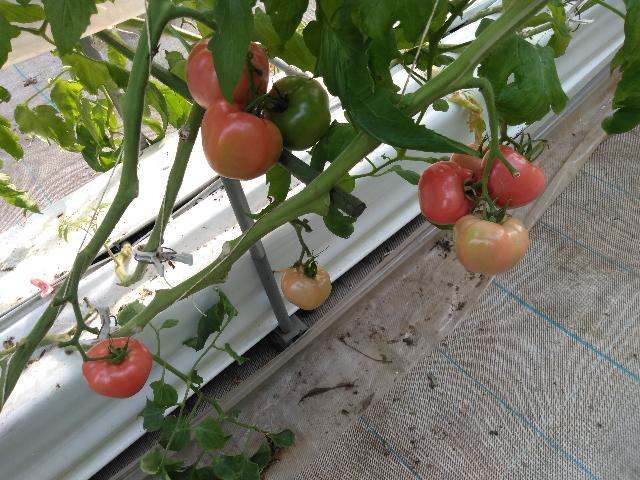b_fully_ripened: (83, 337, 152, 399), (481, 145, 544, 210), (418, 160, 478, 227)
b_green: (262, 75, 330, 152)
b_half_ripened: (201, 99, 283, 181), (186, 38, 271, 108), (452, 211, 531, 276), (281, 263, 332, 311)
